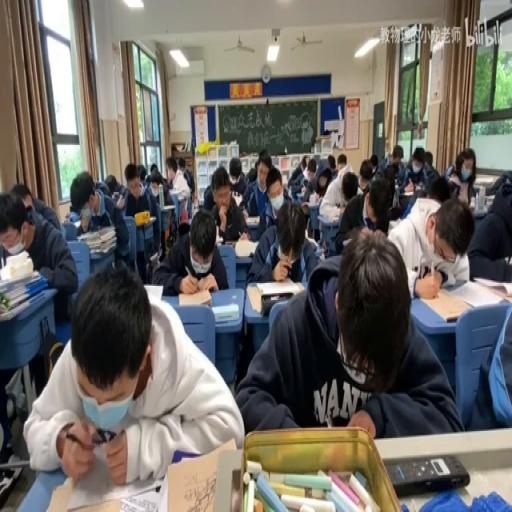calculator: (165, 439, 238, 512), (61, 466, 163, 510), (448, 279, 506, 307), (257, 279, 304, 294), (178, 287, 212, 306), (76, 226, 114, 243), (212, 300, 238, 322), (244, 284, 262, 314), (142, 282, 164, 302), (234, 238, 258, 256), (135, 213, 158, 226), (90, 246, 115, 257), (320, 212, 339, 225), (392, 180, 400, 208), (290, 184, 304, 199), (230, 192, 242, 208), (115, 192, 126, 209), (244, 215, 260, 226), (472, 175, 494, 183), (412, 184, 426, 196), (66, 218, 80, 228), (222, 240, 236, 249), (149, 250, 158, 264), (402, 186, 414, 196), (388, 219, 398, 230), (307, 198, 320, 206), (299, 202, 310, 210), (160, 204, 174, 210), (342, 238, 350, 248), (215, 235, 224, 243)
paper: (26, 260, 240, 488), (234, 229, 456, 437), (0, 186, 77, 323), (386, 191, 470, 300), (244, 192, 318, 286), (68, 169, 130, 276), (463, 293, 511, 429), (152, 208, 226, 294), (466, 175, 512, 282), (335, 172, 392, 255), (146, 164, 174, 240), (402, 145, 434, 192), (224, 155, 249, 202), (374, 144, 402, 184), (173, 155, 193, 195), (428, 173, 454, 202), (457, 148, 476, 181), (288, 154, 307, 186), (397, 189, 416, 219), (316, 165, 334, 193), (266, 181, 284, 209), (102, 174, 122, 199), (341, 173, 357, 202), (358, 160, 372, 188), (336, 154, 348, 175), (444, 159, 455, 179), (245, 166, 256, 185), (136, 165, 146, 185), (360, 226, 374, 239), (326, 152, 335, 172), (369, 154, 378, 172), (423, 151, 433, 166), (384, 151, 391, 165), (302, 160, 309, 170), (392, 161, 399, 169)
person: (386, 452, 470, 495), (260, 292, 294, 314), (318, 238, 328, 256), (446, 314, 458, 322)
